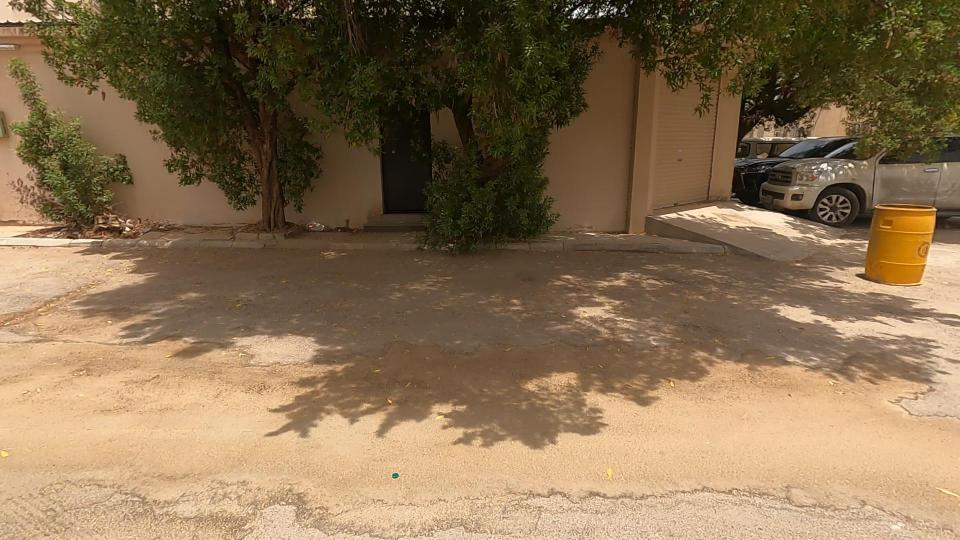GARBAGE: (47, 179, 212, 273), (263, 187, 369, 271)
